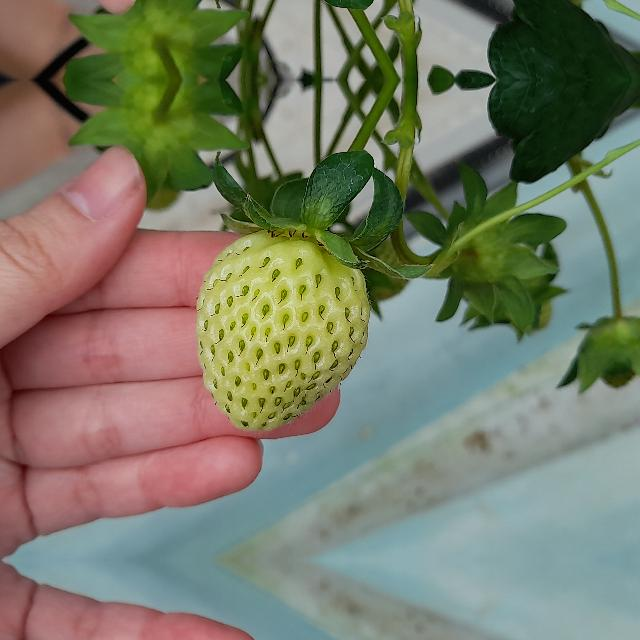Health_25: (196, 230, 370, 430)
